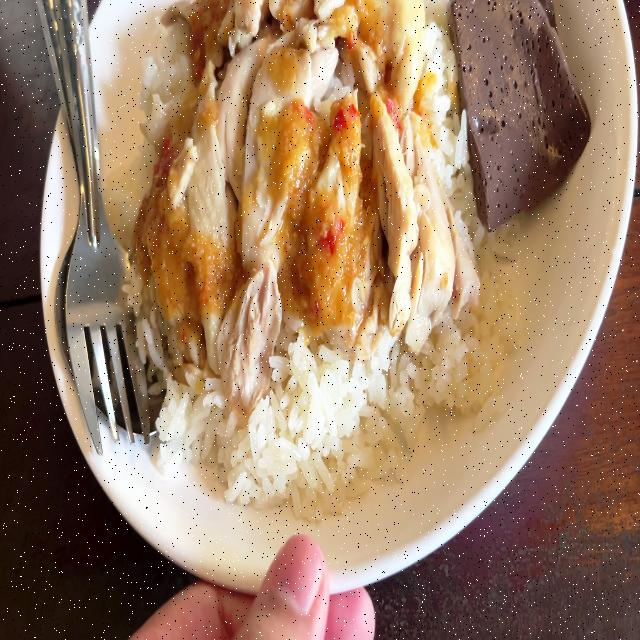boiled_chicken: (142, 0, 452, 358)
boiled_chicken_blood_jelly: (455, 0, 587, 214)
chicken_rice: (130, 0, 588, 494)
